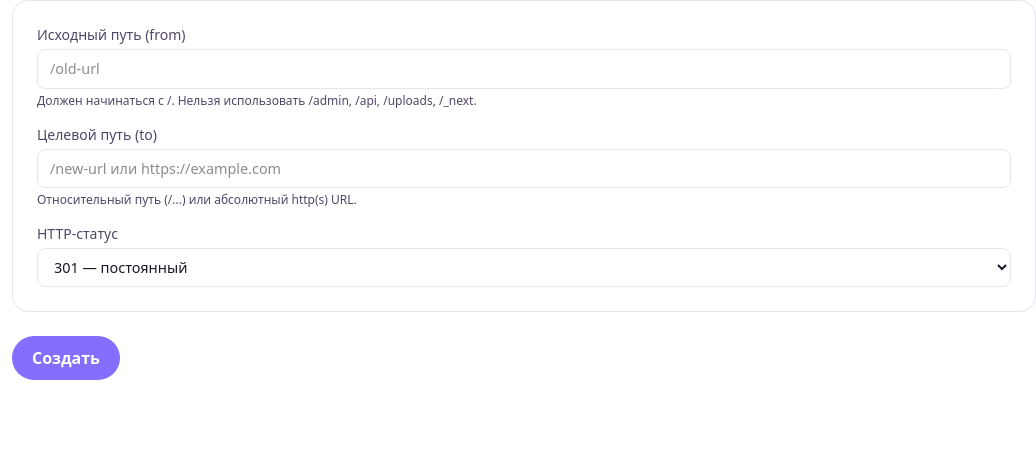
Scenario: RedirectForm › rejects reserved /admin prefix for from_path
In the field labelled "Исходный путь (from)": (524, 69) [37, 49, 1011, 89], type "/admin/dashboard"
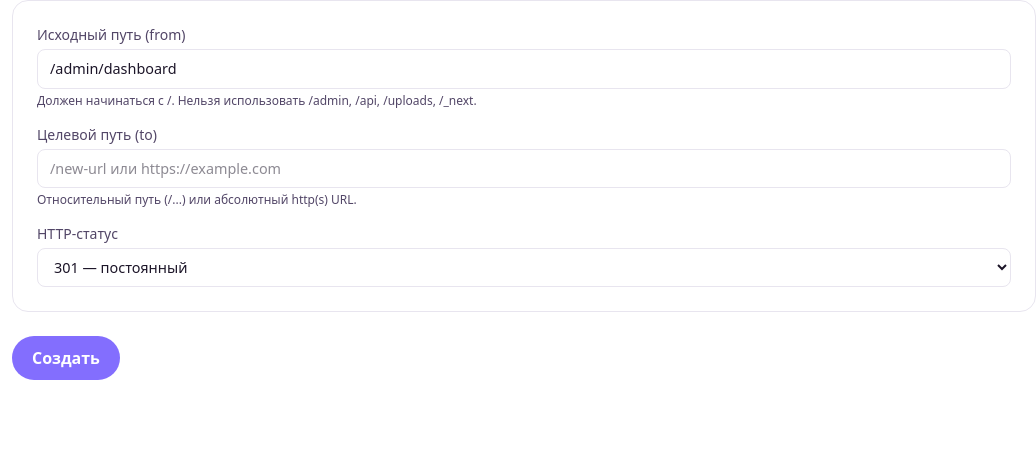
In the field labelled "Целевой путь (to)": (524, 168) [37, 149, 1011, 188], type "/x"
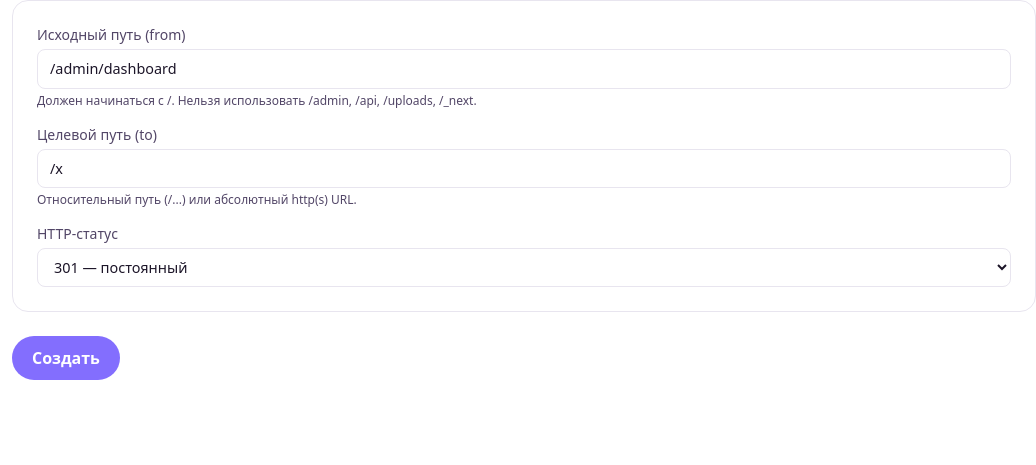
Click the button "Создать": (66, 358) [12, 336, 120, 380]
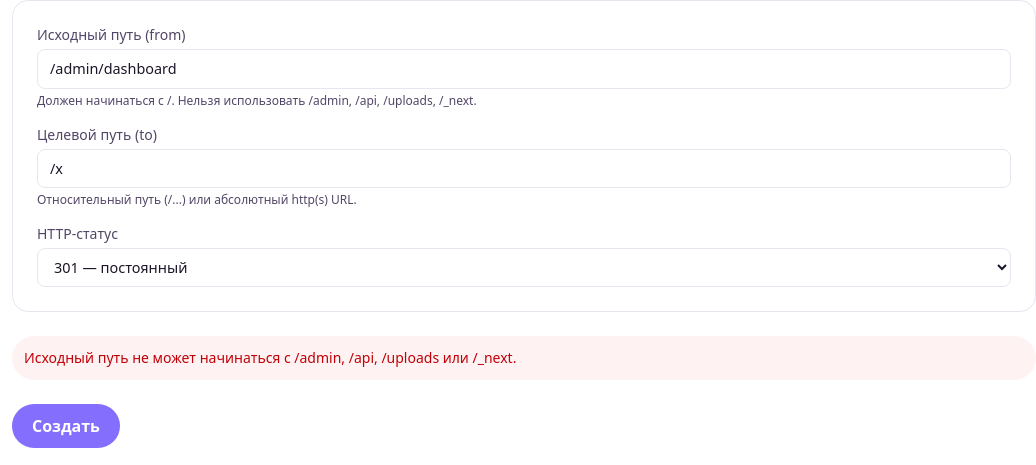
Expected: the message shows "не может начинаться с /admin", [24, 348, 516, 367]
